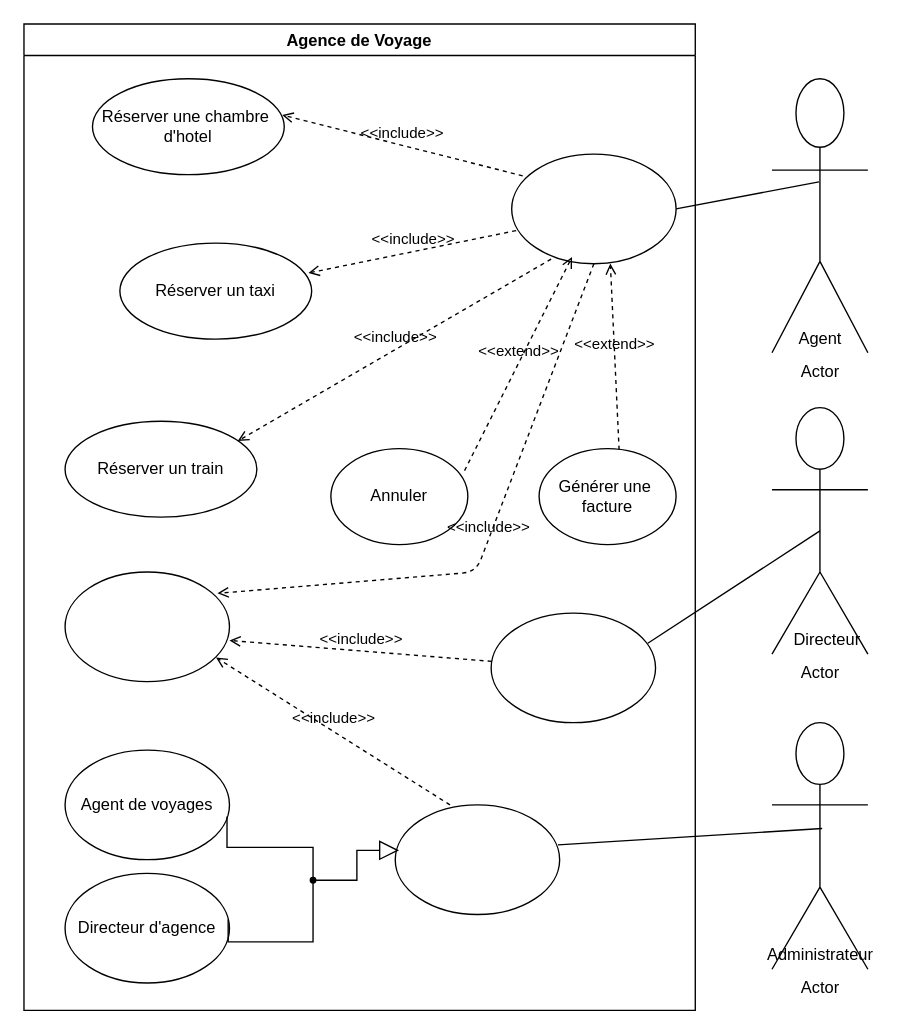
This 906x1034 diagram has some shape labels left out. The shapes that lost their labels are listed below. From the top down, each one's centre as x and y in pixels, then its label:
At point (593, 208): "Organiser un voyage".
At point (146, 626): "Authentification".
At point (573, 667): "Consulter la liste des voyages organisés".
At point (477, 859): "Gérer les profiles d'utilisateurs".
